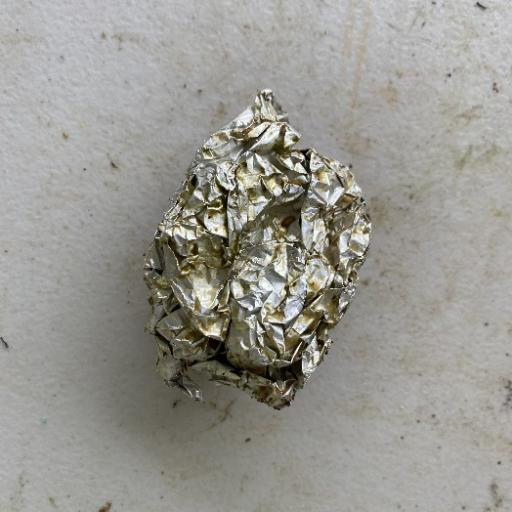Metal: (141, 87, 373, 411)
